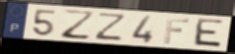4: (130, 14, 155, 44)
5: (32, 9, 59, 37)
E: (191, 17, 225, 50)
F: (162, 16, 191, 45)
Z: (61, 9, 98, 41), (93, 12, 129, 42)
